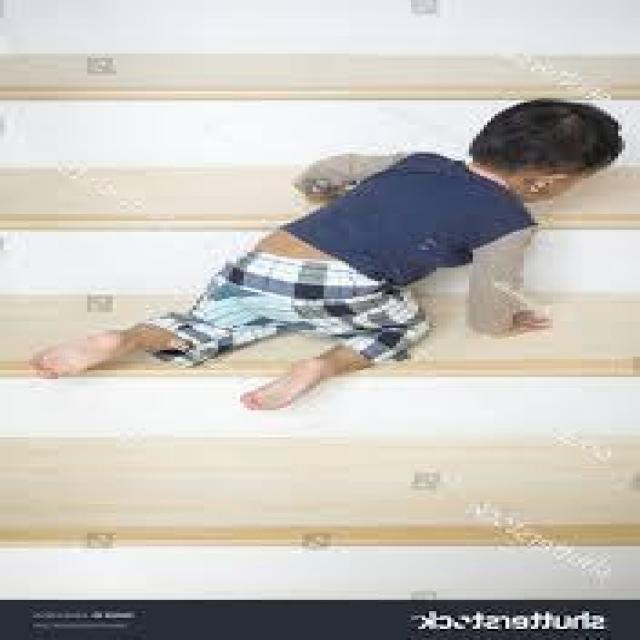child: (37, 103, 626, 426)
